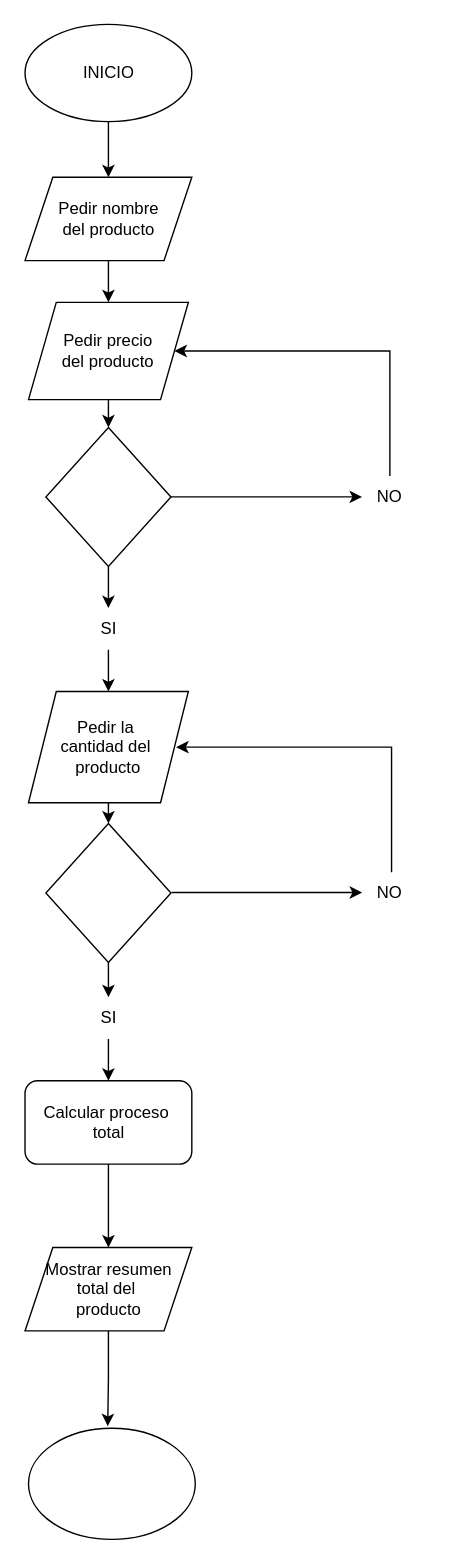
This 455x1564 diagram has some shape labels left out. The centre of each missing label's shape, as x and y in pixels:
Cantidad válida?: pixel 107 892
FIN: pixel 111 1483
Precio válido?: pixel 107 496
